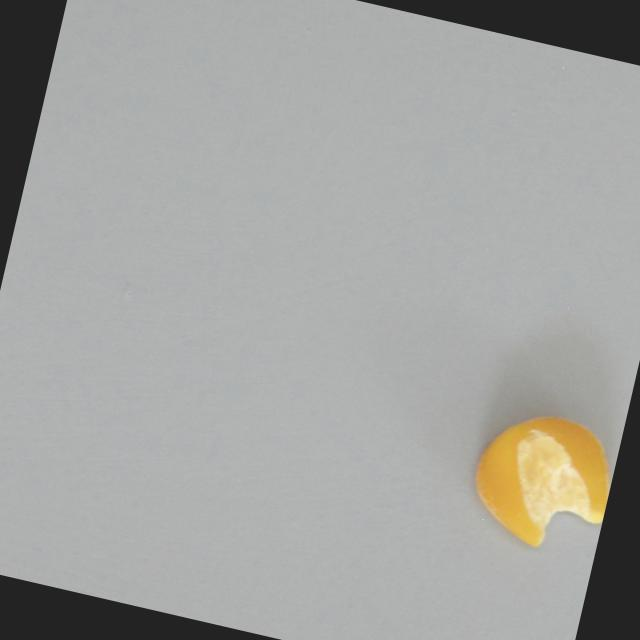dañado: (445, 386, 625, 568)
